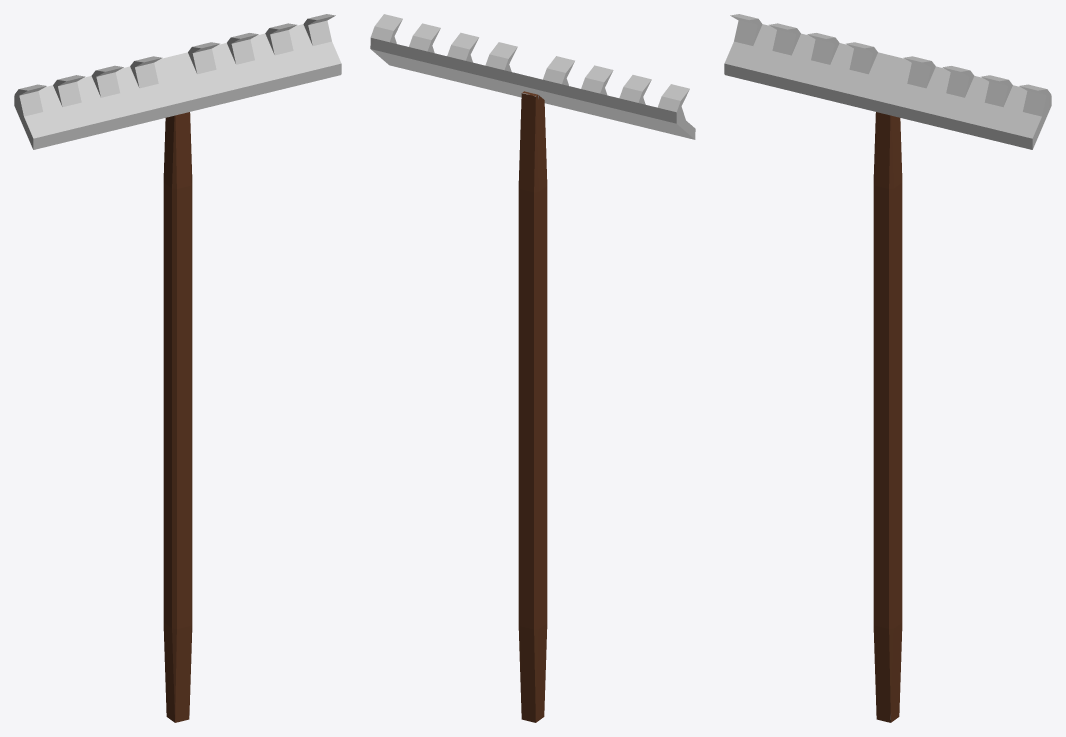
Rendered from Rake.fbx.
The picture shows the model from 3 angles, left to right: view 1: azimuth 30°, elevation 25°; view 2: azimuth 150°, elevation 25°; view 3: azimuth 330°, elevation 25°; orthographic projection.
Visible parts, largest first — view 1: Cube; view 2: Cube; view 3: Cube.
Part boxes in pixels (<box>): Cube: <box>14,14,341,722</box>; Cube: <box>370,14,695,722</box>; Cube: <box>724,14,1051,722</box>.
Size of the model in its own units: 200 by 414 by 21.37.
1 material, 1 textured.
